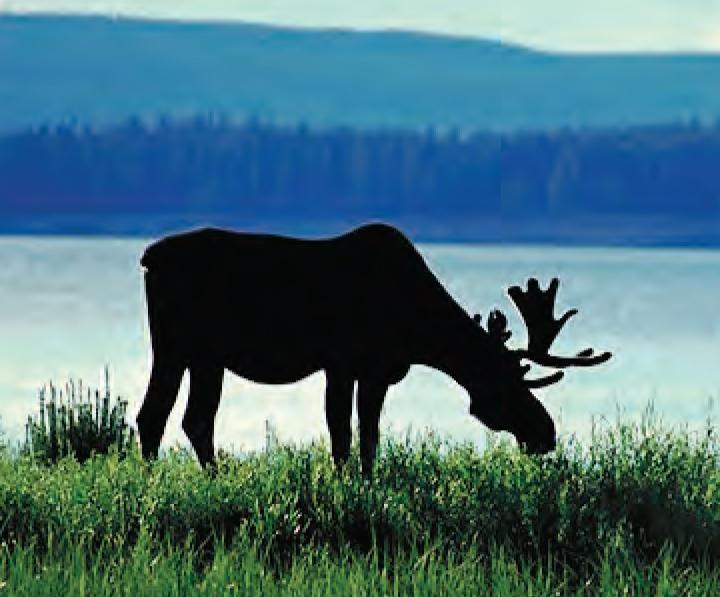moose: (130, 220, 616, 470)
